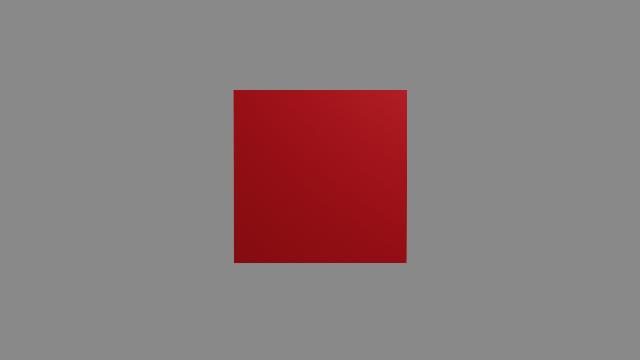Cube: (224, 77, 428, 286)
